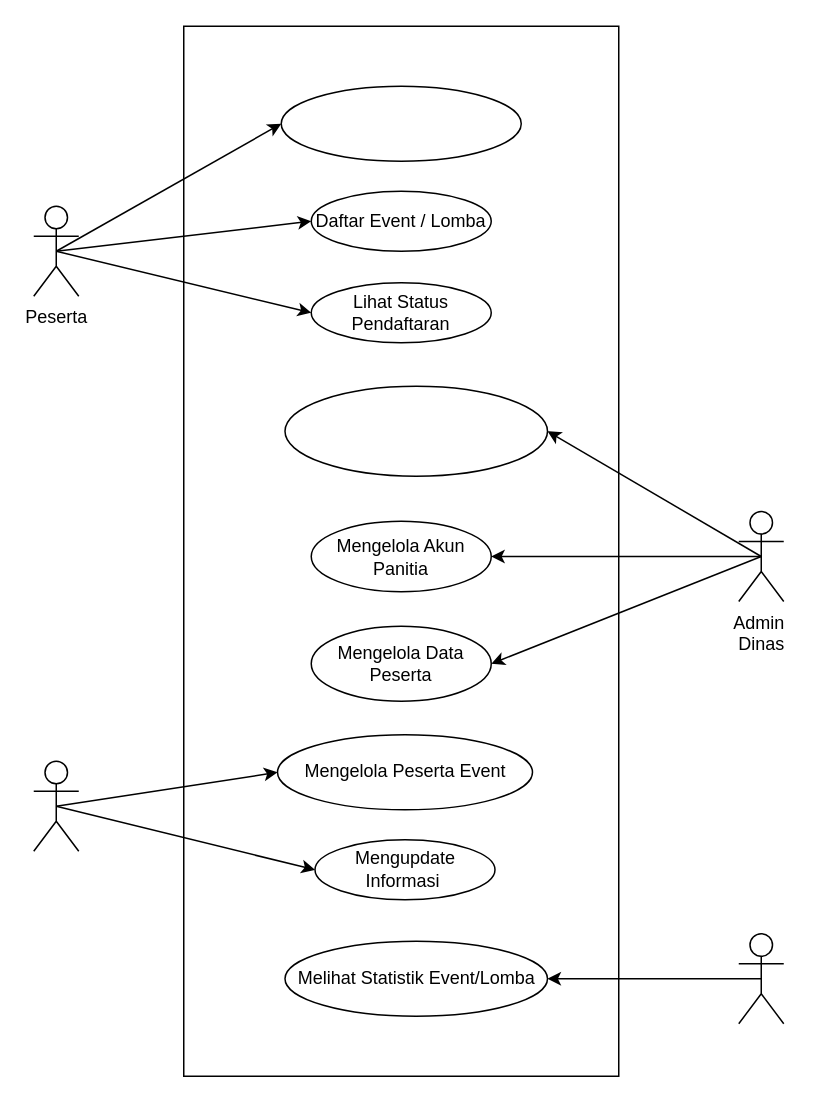
This 840x1103 diagram has some shape labels left out. The centre of each missing label's shape, as x and y in pixels:
"Kepala Dinas" goes at pixel 760 978.
"Melihat Event dan Lomba" goes at pixel 400 123.
"Mengelola Event" goes at pixel 416 430.
"Panitia" goes at pixel 55 805.
